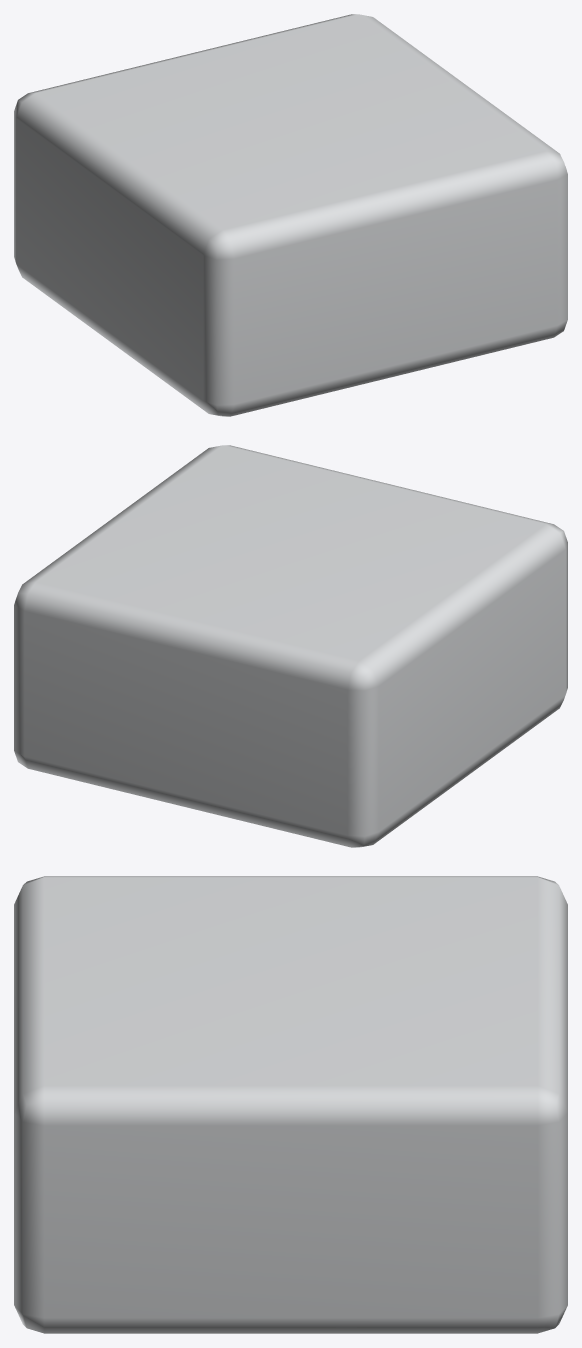
File: SM_Cloud_02_C.fbx
3 views of the same model, one above another, from view 1: azimuth 30°, elevation 25°; view 2: azimuth 150°, elevation 25°; view 3: azimuth 270°, elevation 25° (orthographic). The views are drawn at different scales.
Parts seen in each view (by area): view 1: pCube791; view 2: pCube791; view 3: pCube791.
Part boxes in pixels (x1=…): pCube791: x1=14, y1=14, x2=567, y2=416; pCube791: x1=14, y1=445, x2=567, y2=847; pCube791: x1=14, y1=876, x2=567, y2=1333.
Size of the model in its own units: 896 by 441 by 897.
